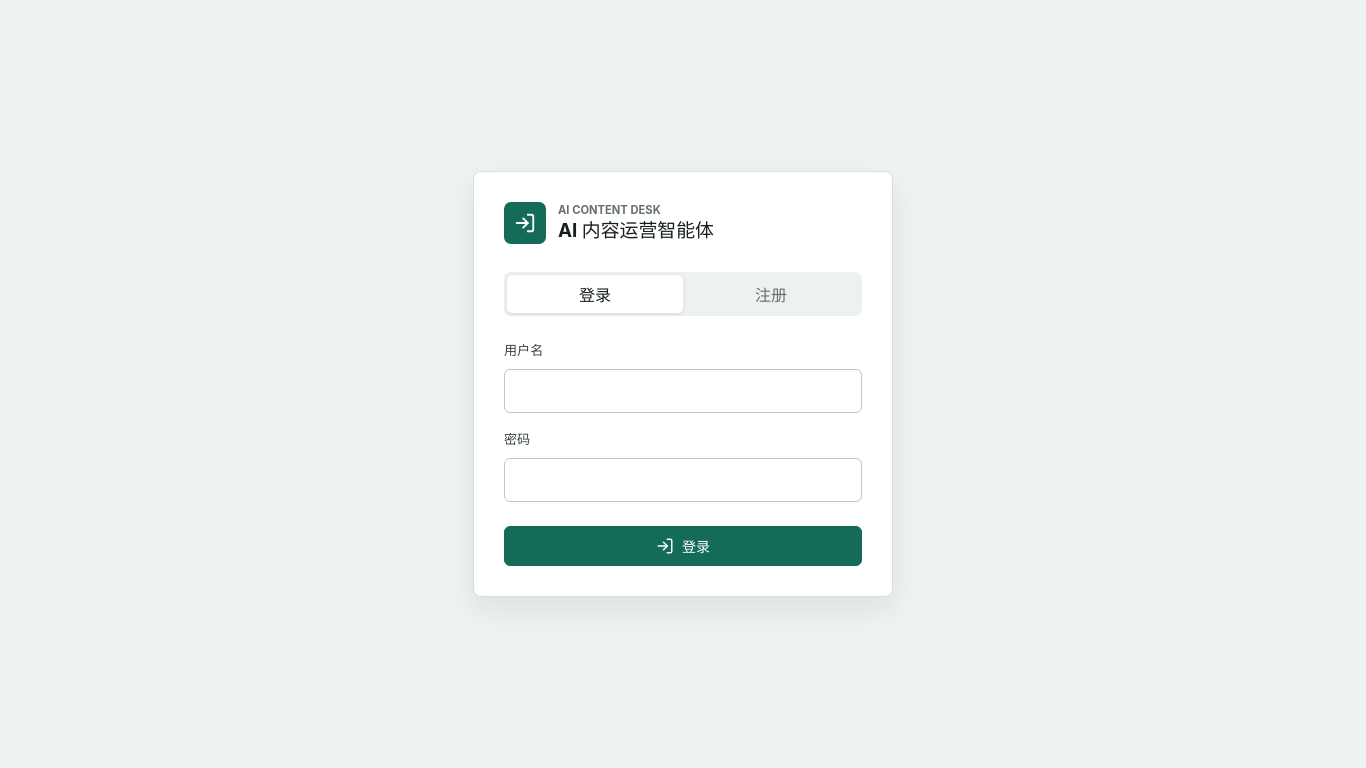
Scenario: authentication lifecycle › registers, logs in, stores the token, and opens the workspace
Click the tab "注册" at (771, 294), box [683,275,859,313]
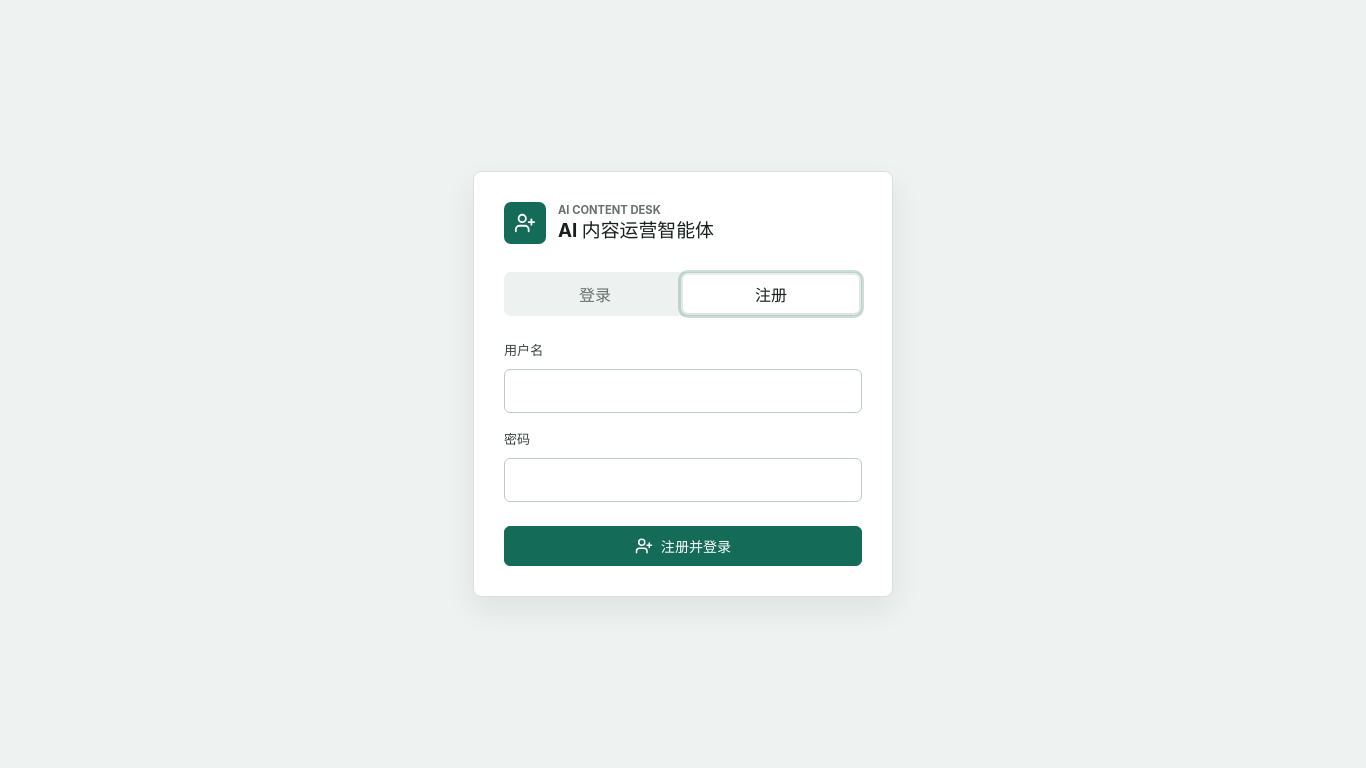
Type "registered_user" into the field labelled "用户名" at (683, 391), box [504,369,862,413]
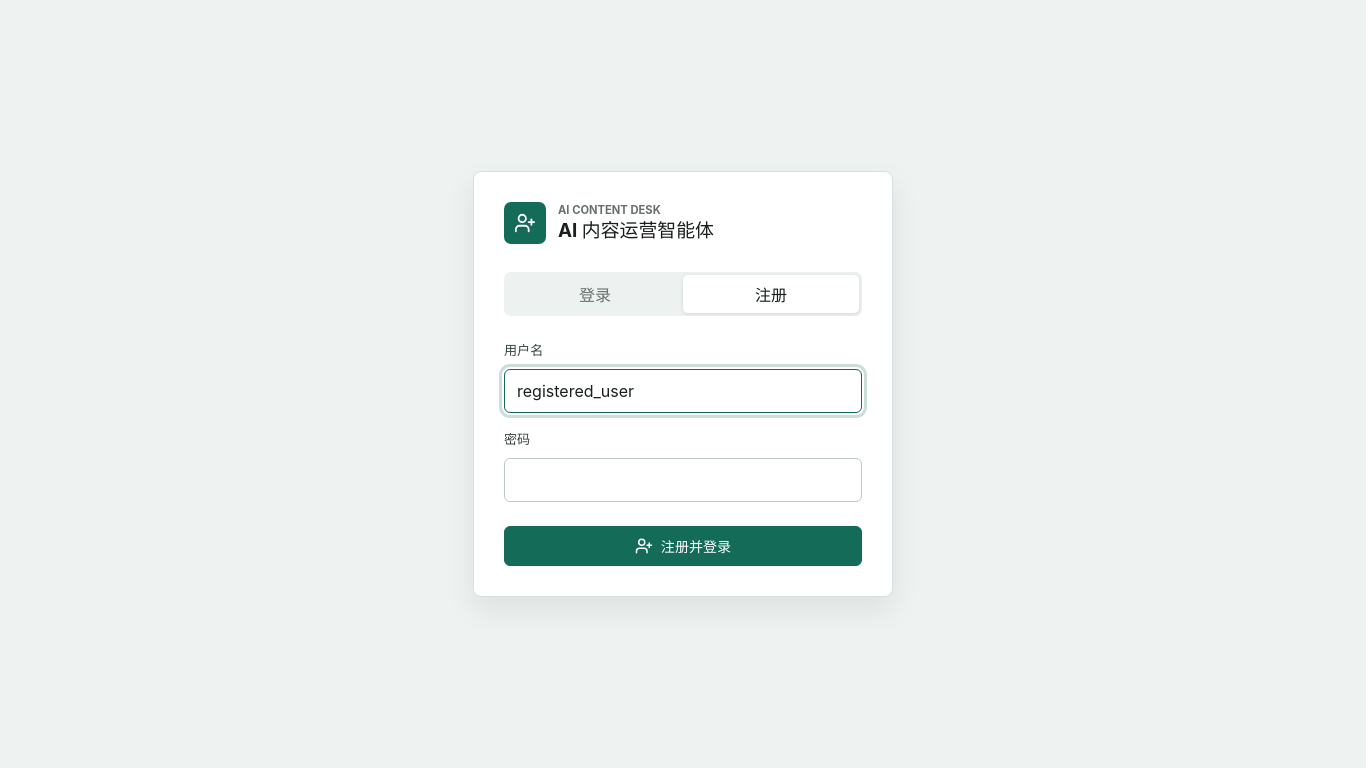
Type "registered-password" into the password field labelled "密码" at (683, 480), box [504,458,862,502]
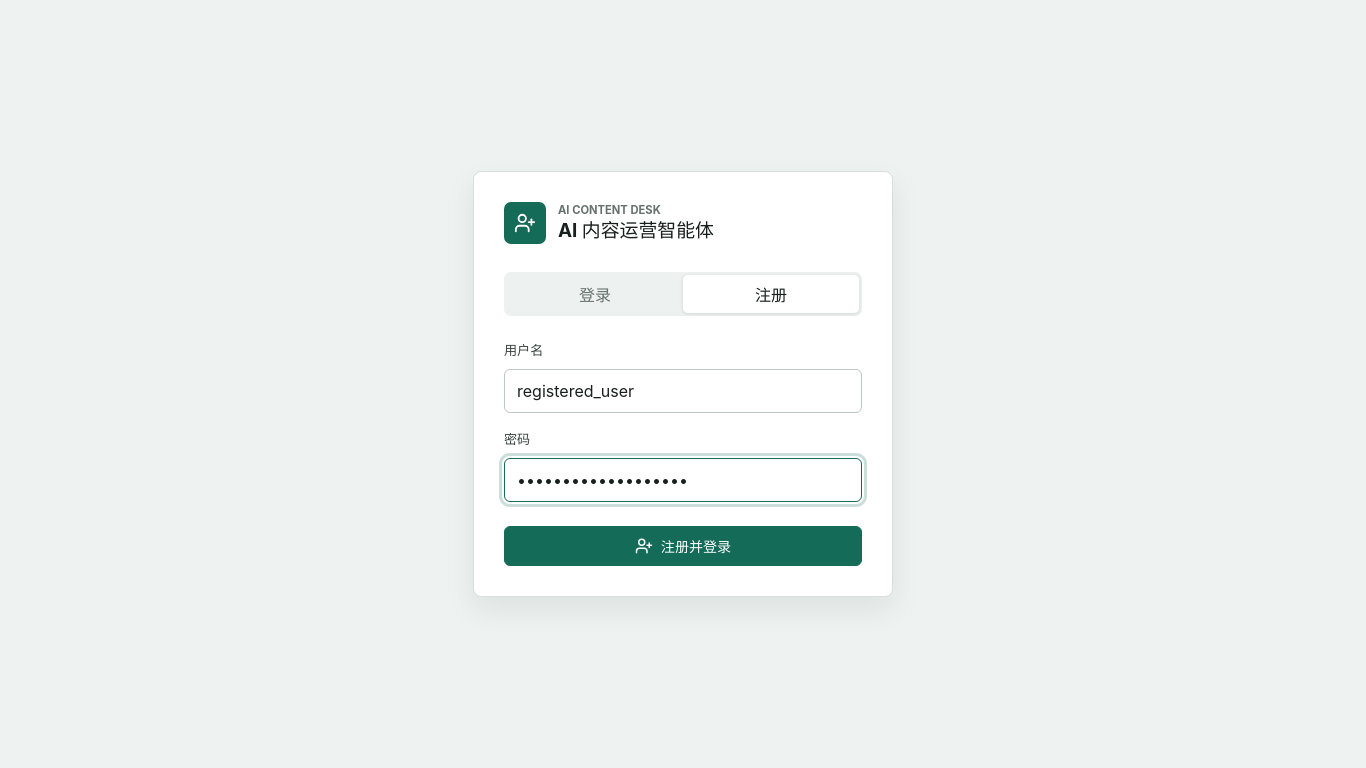
Click the button "注册并登录" at (683, 546), box [504,526,862,566]
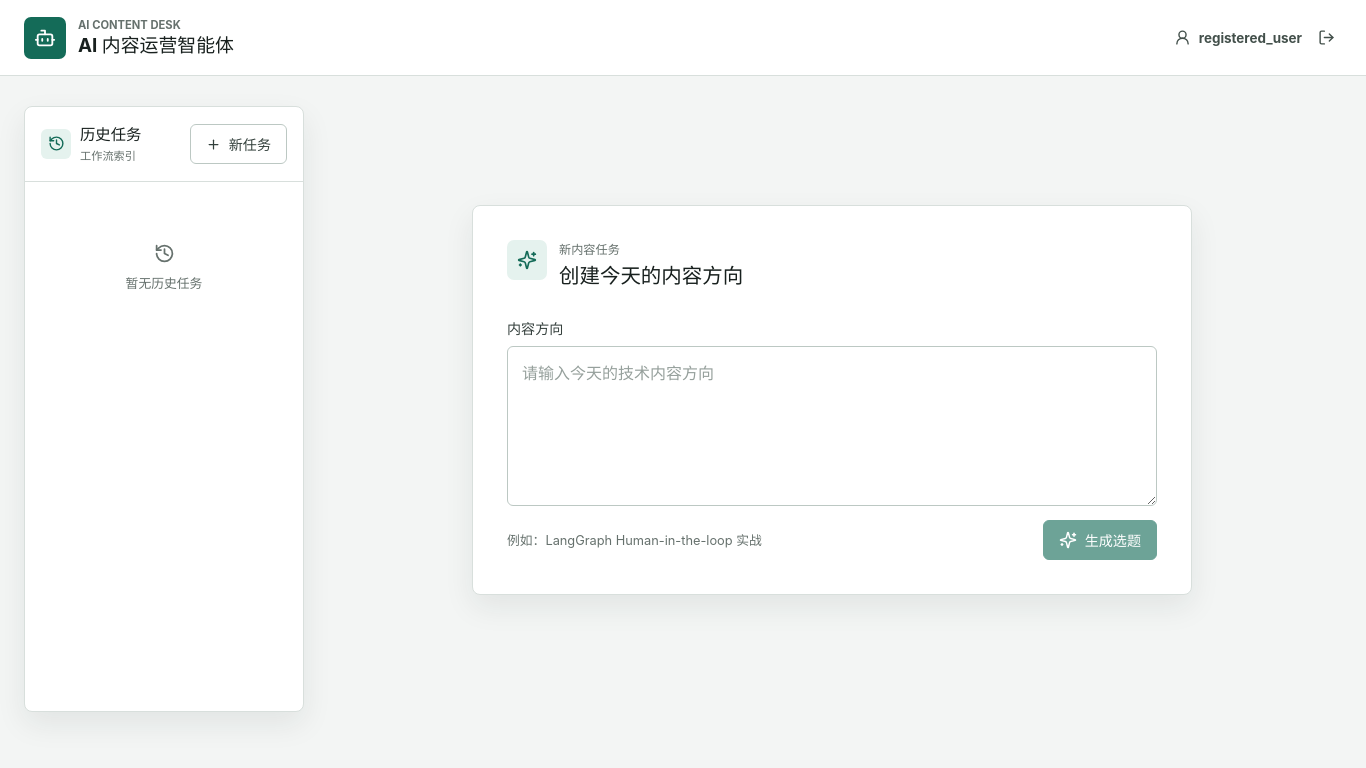
expect the text "registered_user" is shown: met, box [1199,30,1302,46]
